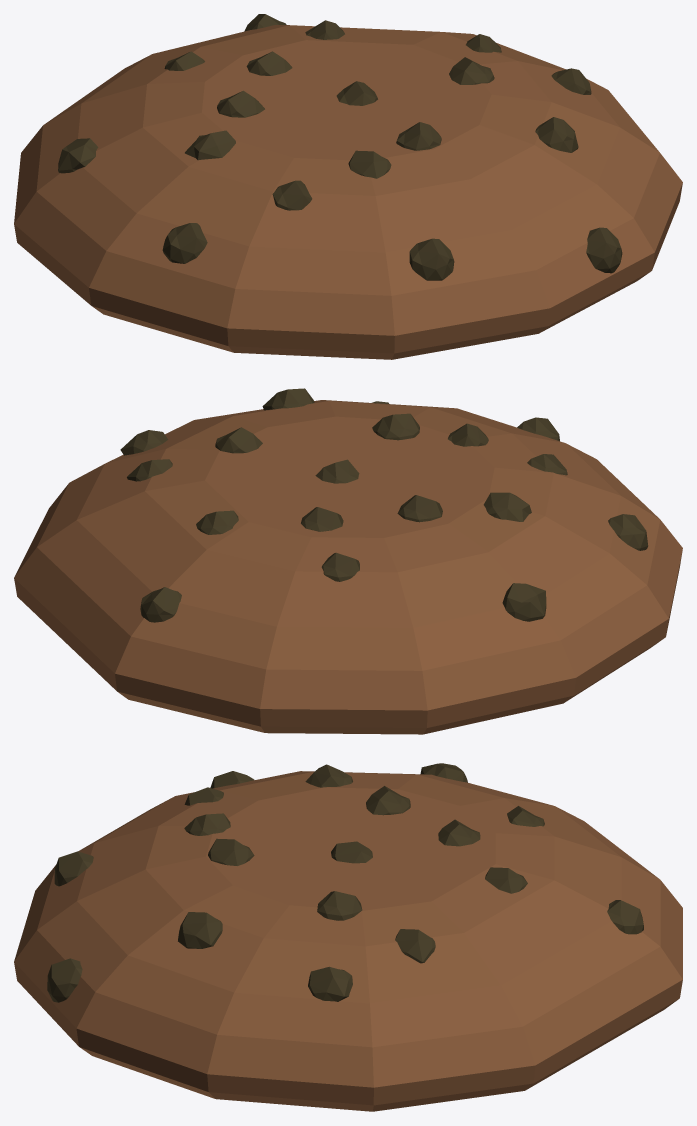
File: bakedDarkCookie.fbx
The picture shows the model from 3 angles, top to bottom: view 1: azimuth 30°, elevation 25°; view 2: azimuth 150°, elevation 25°; view 3: azimuth 270°, elevation 25°; orthographic projection.
Parts seen in each view (by area): view 1: Icosphere; view 2: Icosphere; view 3: Icosphere.
Boxes of the visible parts, x1,y1,x2,y2 form: Icosphere: (14,14,682,359); Icosphere: (14,388,682,734); Icosphere: (14,763,682,1111).
Size of the model in its own units: 58.12 by 14.4 by 57.55.
